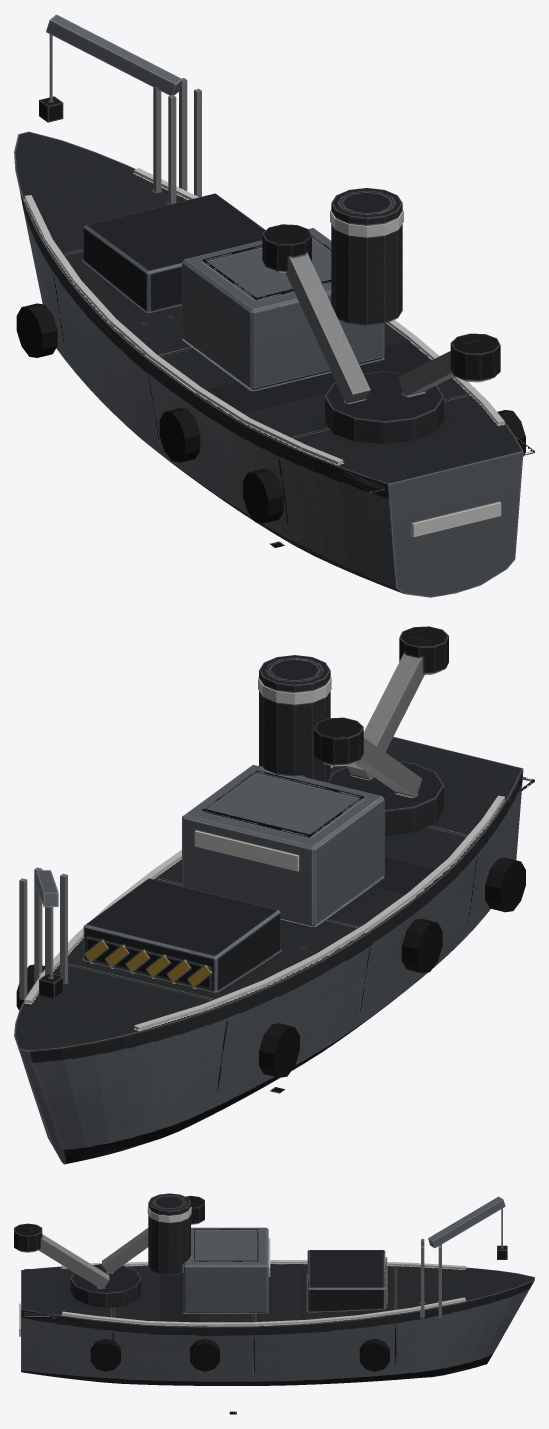
The model's file is chs_reaver.fbx.
The picture shows the model from 3 angles, top to bottom: view 1: azimuth 30°, elevation 25°; view 2: azimuth 150°, elevation 25°; view 3: azimuth 270°, elevation 25°; orthographic projection. The views are drawn at different scales.
Visible parts, largest first — view 1: base_bar, nano_bar, base_glow_running_bar; view 2: base_bar, nano_bar, base_glow_running_bar; view 3: base_bar, nano_bar, base_glow_running_bar.
Boxes of the visible parts, <box> form: base_bar: <box>14,14,534,597</box>; nano_bar: <box>262,224,500,443</box>; base_glow_running_bar: <box>24,168,504,537</box>; base_bar: <box>14,655,534,1164</box>; nano_bar: <box>314,626,448,836</box>; base_glow_running_bar: <box>24,677,504,1030</box>; base_bar: <box>21,1193,534,1385</box>; nano_bar: <box>14,1195,204,1307</box>; base_glow_running_bar: <box>19,1206,465,1336</box>.
Bounding box in the file's own units: 500 × 690 × 1473.
Materials: 2 (2 with a texture image).
